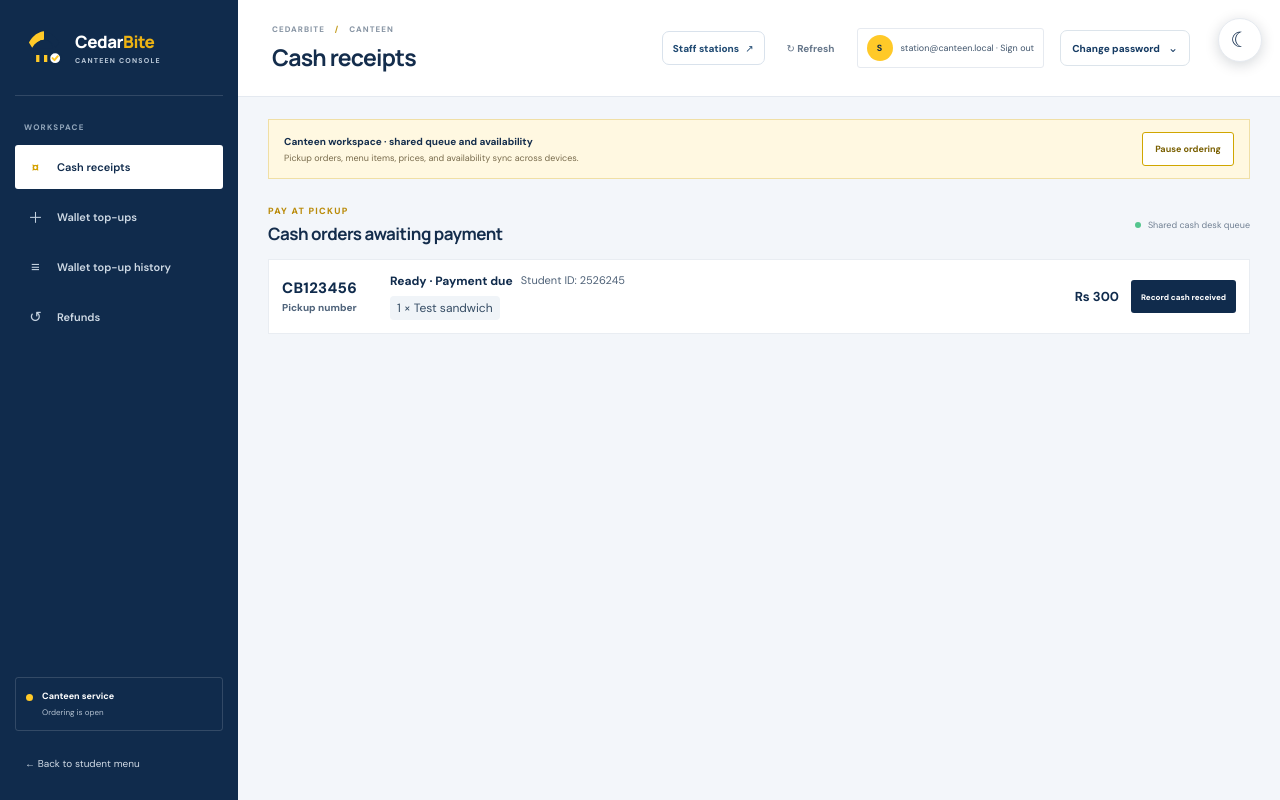
it: cash desk and order workflow actions › records cash received and removes that order from the unpaid cash list
Step 1. Click the button "Record cash received" → (1184, 296), box [1131,280,1236,313]
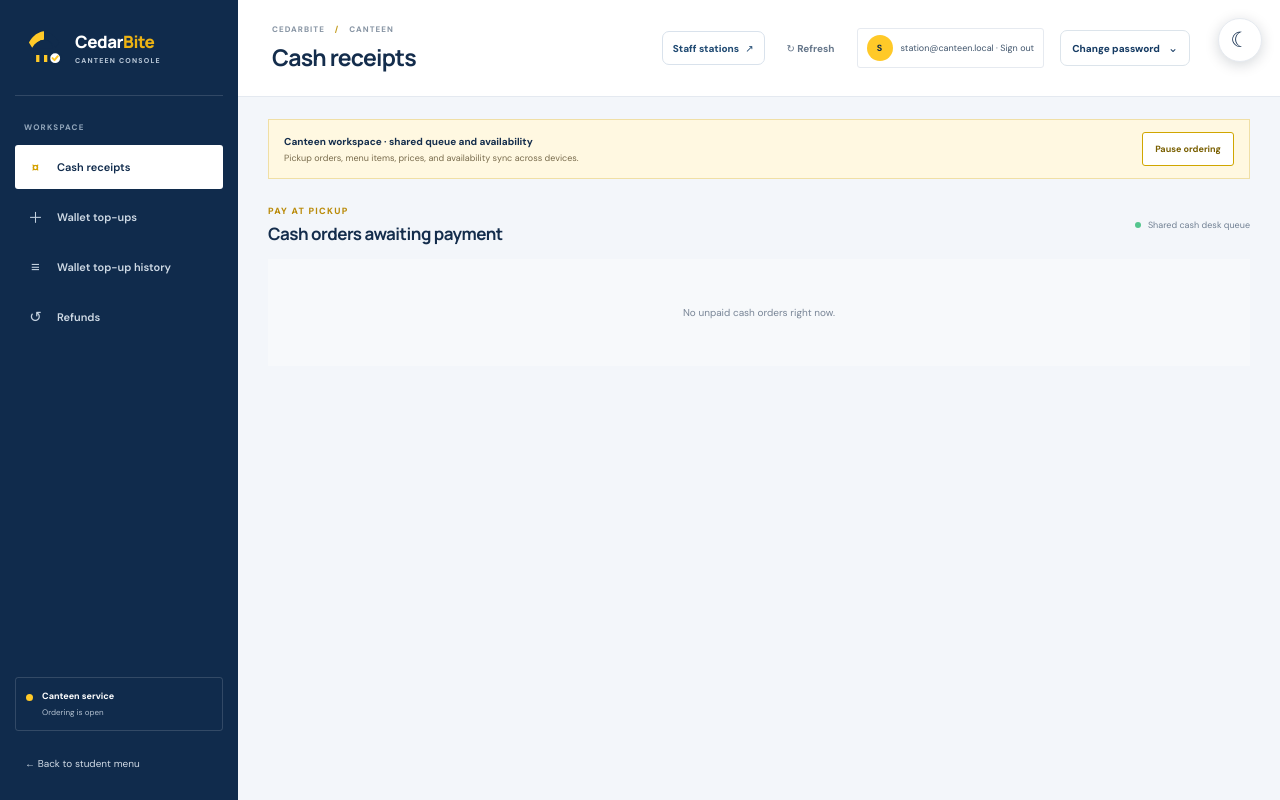
Expected: the button "Record cash received" is gone
Expected: the text "No unpaid cash orders right now." is shown, [268,259,1250,366]
